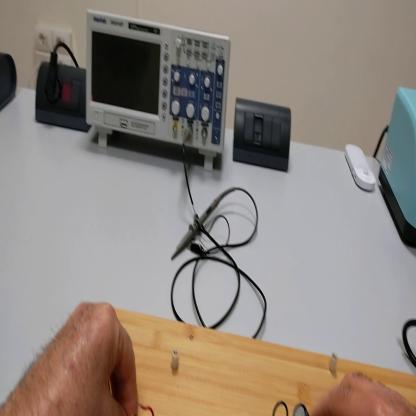hand: (2, 305, 142, 416), (314, 373, 416, 416)
high voltage board: (130, 399, 309, 416)
oscilloscope probe tip: (171, 192, 229, 263)
socket: (34, 56, 92, 138), (2, 49, 18, 112)
welder station: (379, 81, 416, 246)
working area: (111, 311, 416, 416), (84, 14, 233, 170)
